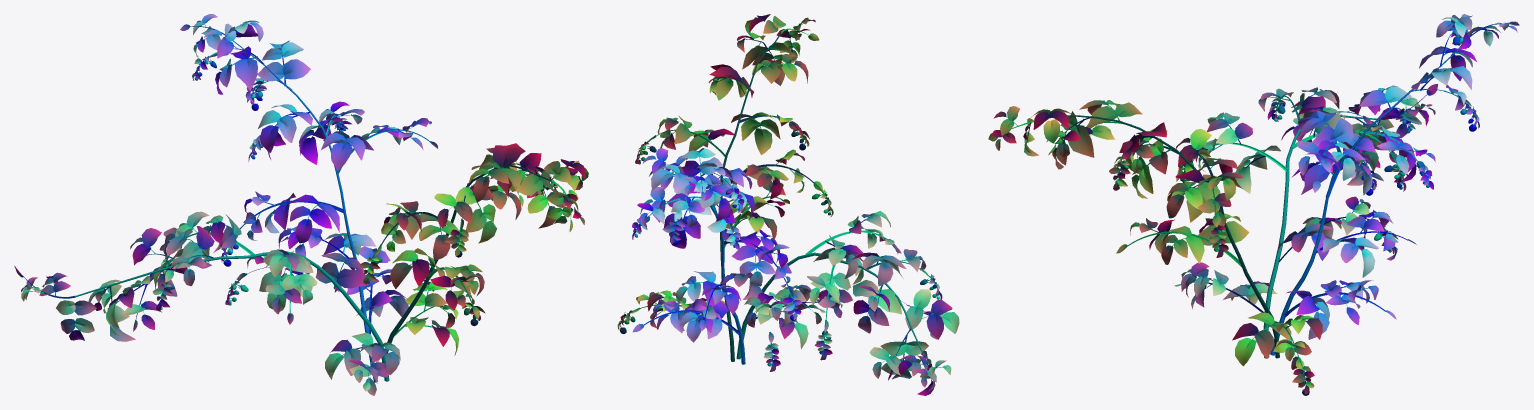
Rendered from Raspberry_wf0oefeja_High_wf0oefeja_VarE_LOD0.fbx.
The picture shows the model from 3 angles, left to right: view 1: azimuth 30°, elevation 25°; view 2: azimuth 150°, elevation 25°; view 3: azimuth 270°, elevation 25°; orthographic projection. The views are drawn at different scales.
Parts seen in each view (by area): view 1: _f4lr_VarE_LOD0; view 2: _f4lr_VarE_LOD0; view 3: _f4lr_VarE_LOD0.
Boxes of the visible parts, x1,y1,x2,y2 form: _f4lr_VarE_LOD0: (14,14,588,395); _f4lr_VarE_LOD0: (617,14,959,395); _f4lr_VarE_LOD0: (988,14,1519,395).
Size of the model in its own units: 115 by 77.69 by 119.
